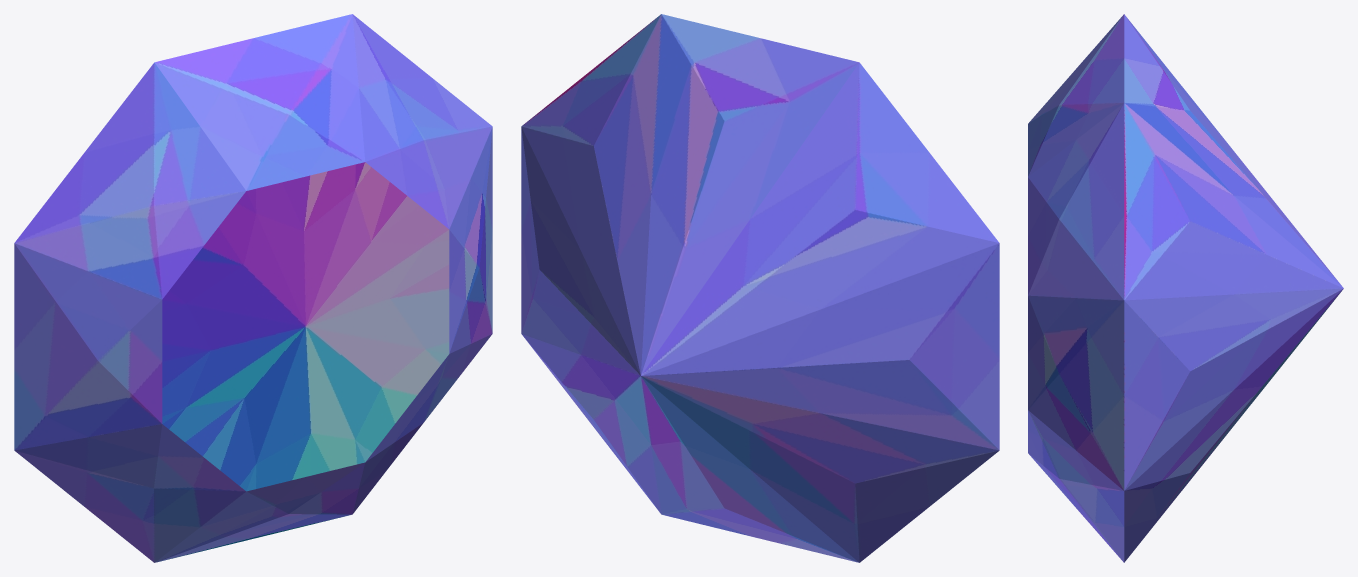
File: diamond.obj
3 views of the same model, side by side, from view 1: azimuth 30°, elevation 25°; view 2: azimuth 150°, elevation 25°; view 3: azimuth 270°, elevation 25° (orthographic). The views are drawn at different scales.
Visible parts, largest first — view 1: Black_Gem.013; view 2: Black_Gem.013; view 3: Black_Gem.013.
Part boxes in pixels (bbox=[...]): Black_Gem.013: bbox=[14, 14, 492, 562]; Black_Gem.013: bbox=[521, 14, 999, 562]; Black_Gem.013: bbox=[1028, 14, 1343, 562].
Bounding box in the file's own units: 1.85 × 1.85 × 1.15.
